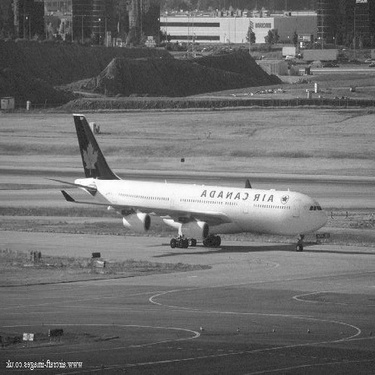airplane: (49, 108, 333, 254)
